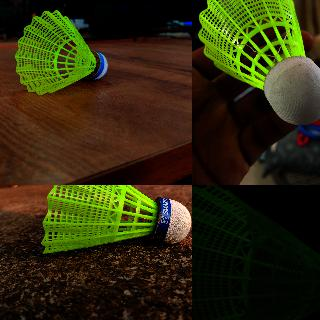shuttlecock: (192, 185, 319, 319), (197, 0, 319, 125), (40, 185, 191, 255), (14, 9, 108, 93)
